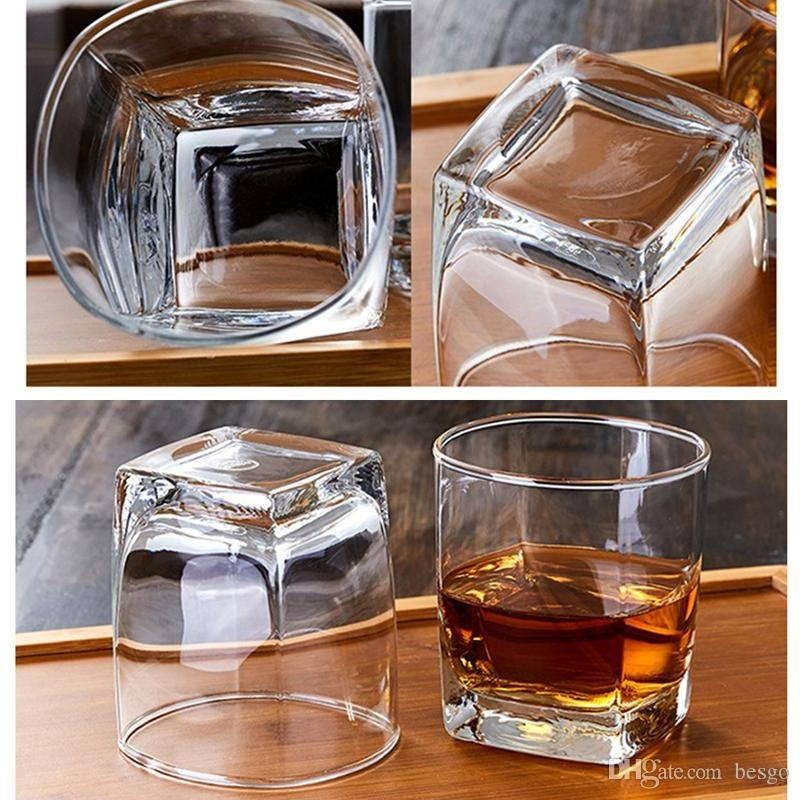whiskey: (445, 413, 697, 758)
